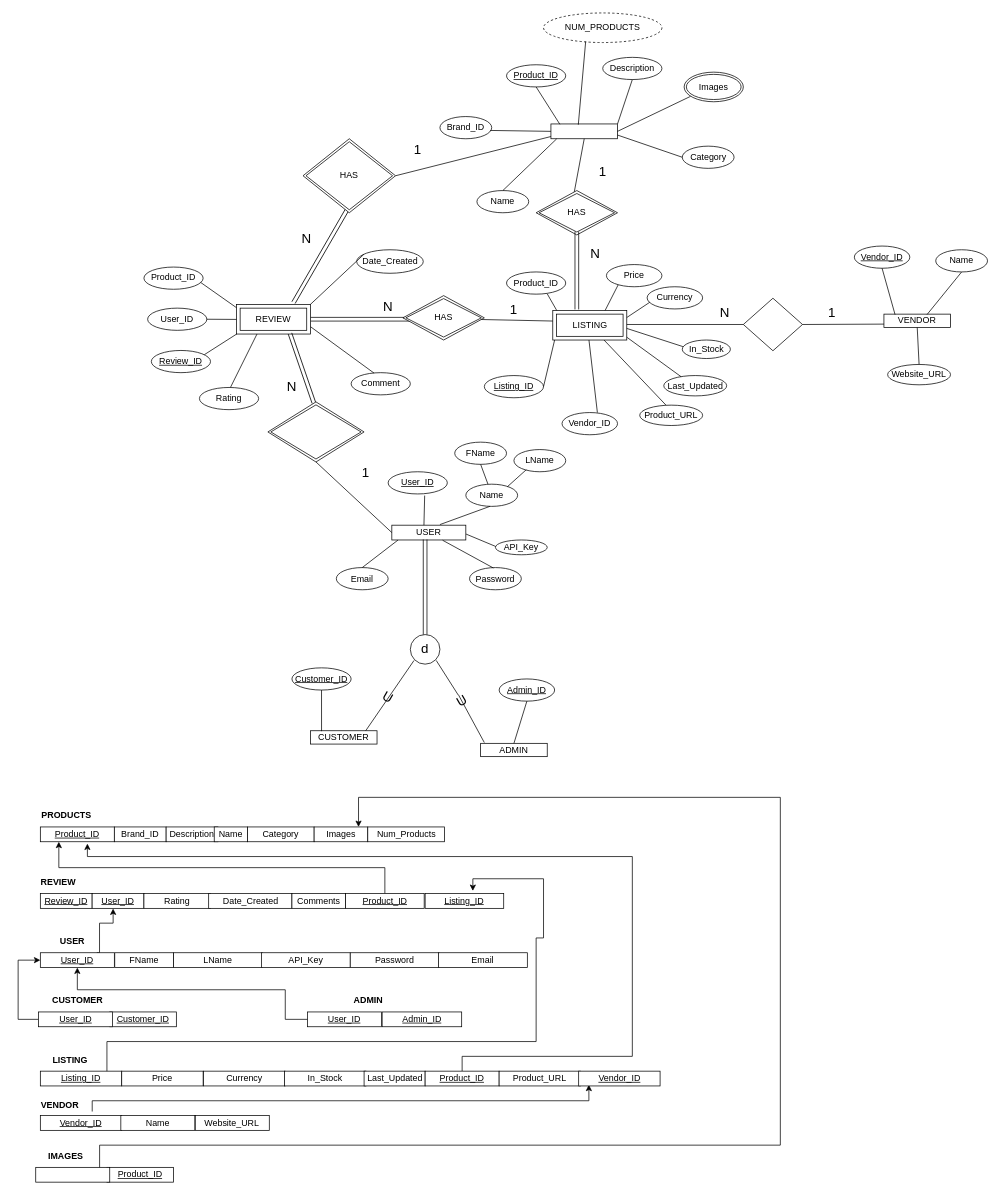
This 1000x1195 diagram has some shape labels left out. Each missing label, with the box of its shape:
Image: (35, 1167, 110, 1182)
INITIATES: (743, 297, 803, 351)
MAKES: (267, 401, 364, 462)
PRODUCT: (550, 123, 618, 139)
